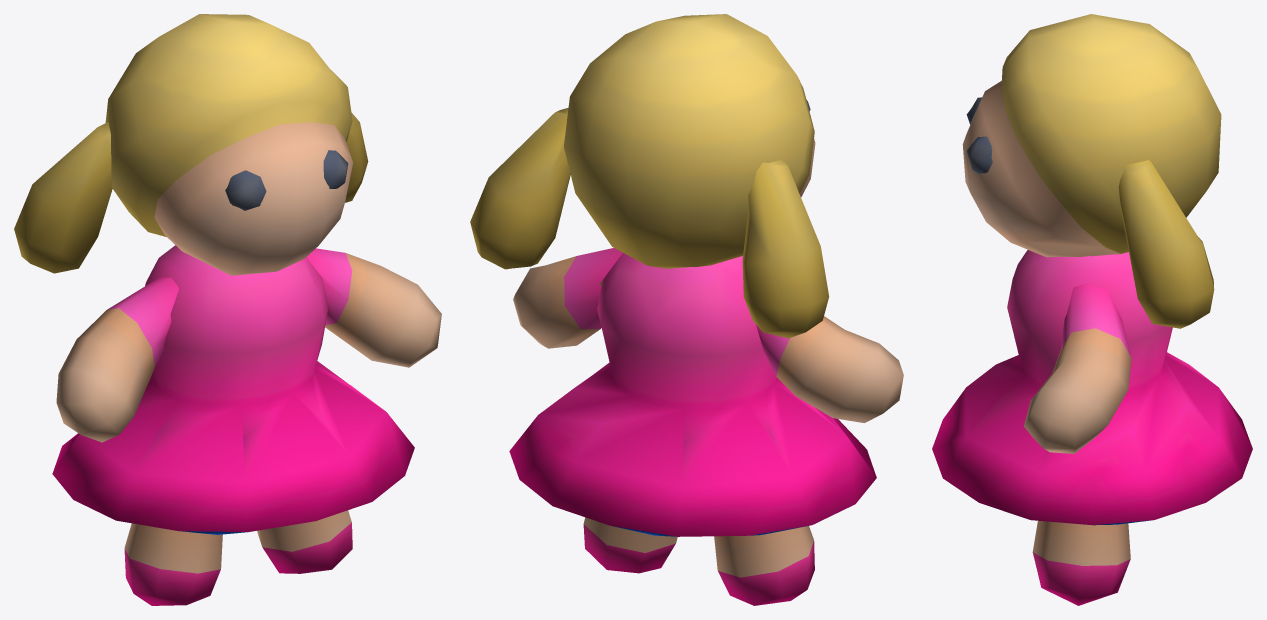
File: Doll Toy.fbx
3 views of the same model, side by side, from view 1: azimuth 30°, elevation 25°; view 2: azimuth 150°, elevation 25°; view 3: azimuth 270°, elevation 25° (orthographic). The views are drawn at different scales.
Visible parts, largest first — view 1: Doll Toy; view 2: Doll Toy; view 3: Doll Toy.
Part boxes in pixels (bbox=[...]): Doll Toy: bbox=[14, 14, 441, 605]; Doll Toy: bbox=[470, 14, 903, 605]; Doll Toy: bbox=[932, 14, 1252, 605].
Size of the model in its own units: 19.23 by 27.35 by 14.68.
Materials: 1 (1 with a texture image).
